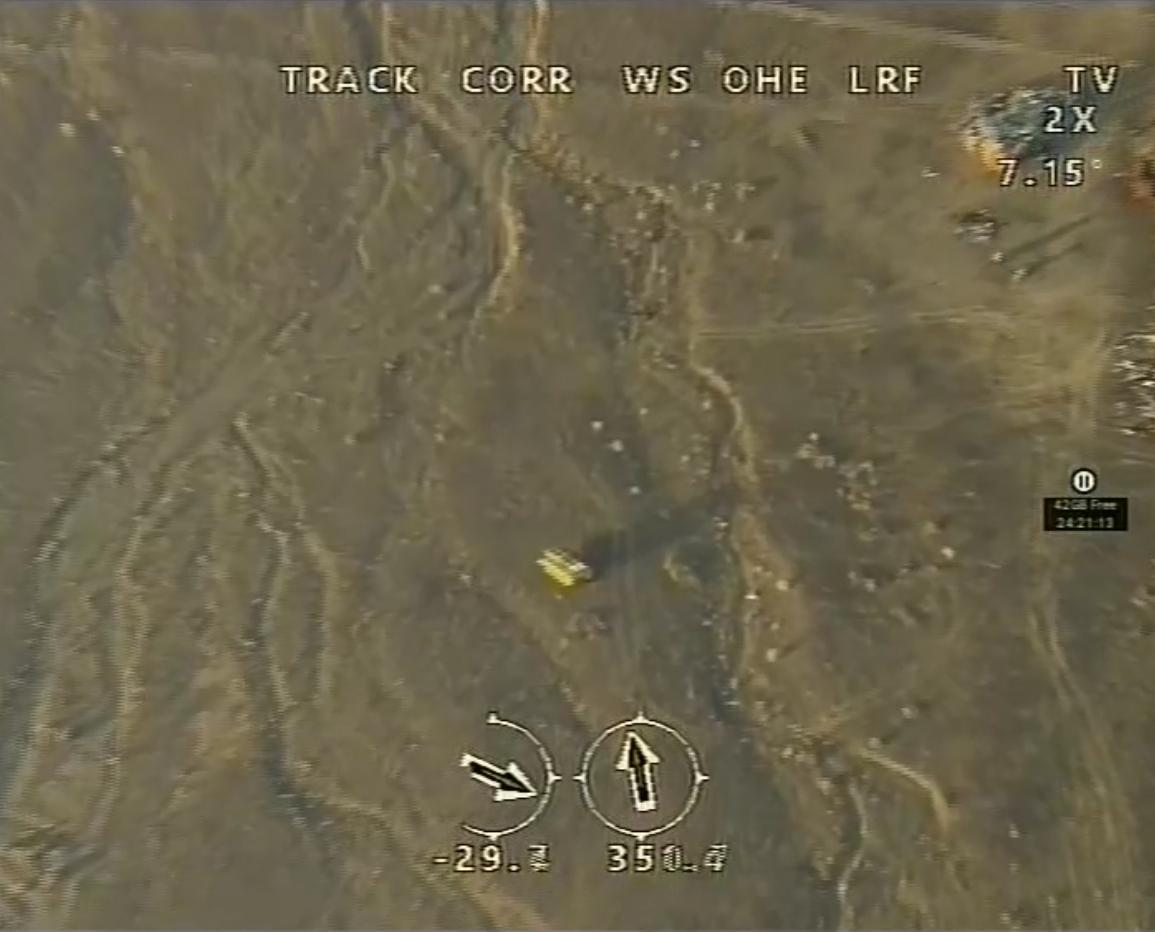armored_car: (536, 546, 598, 589)
